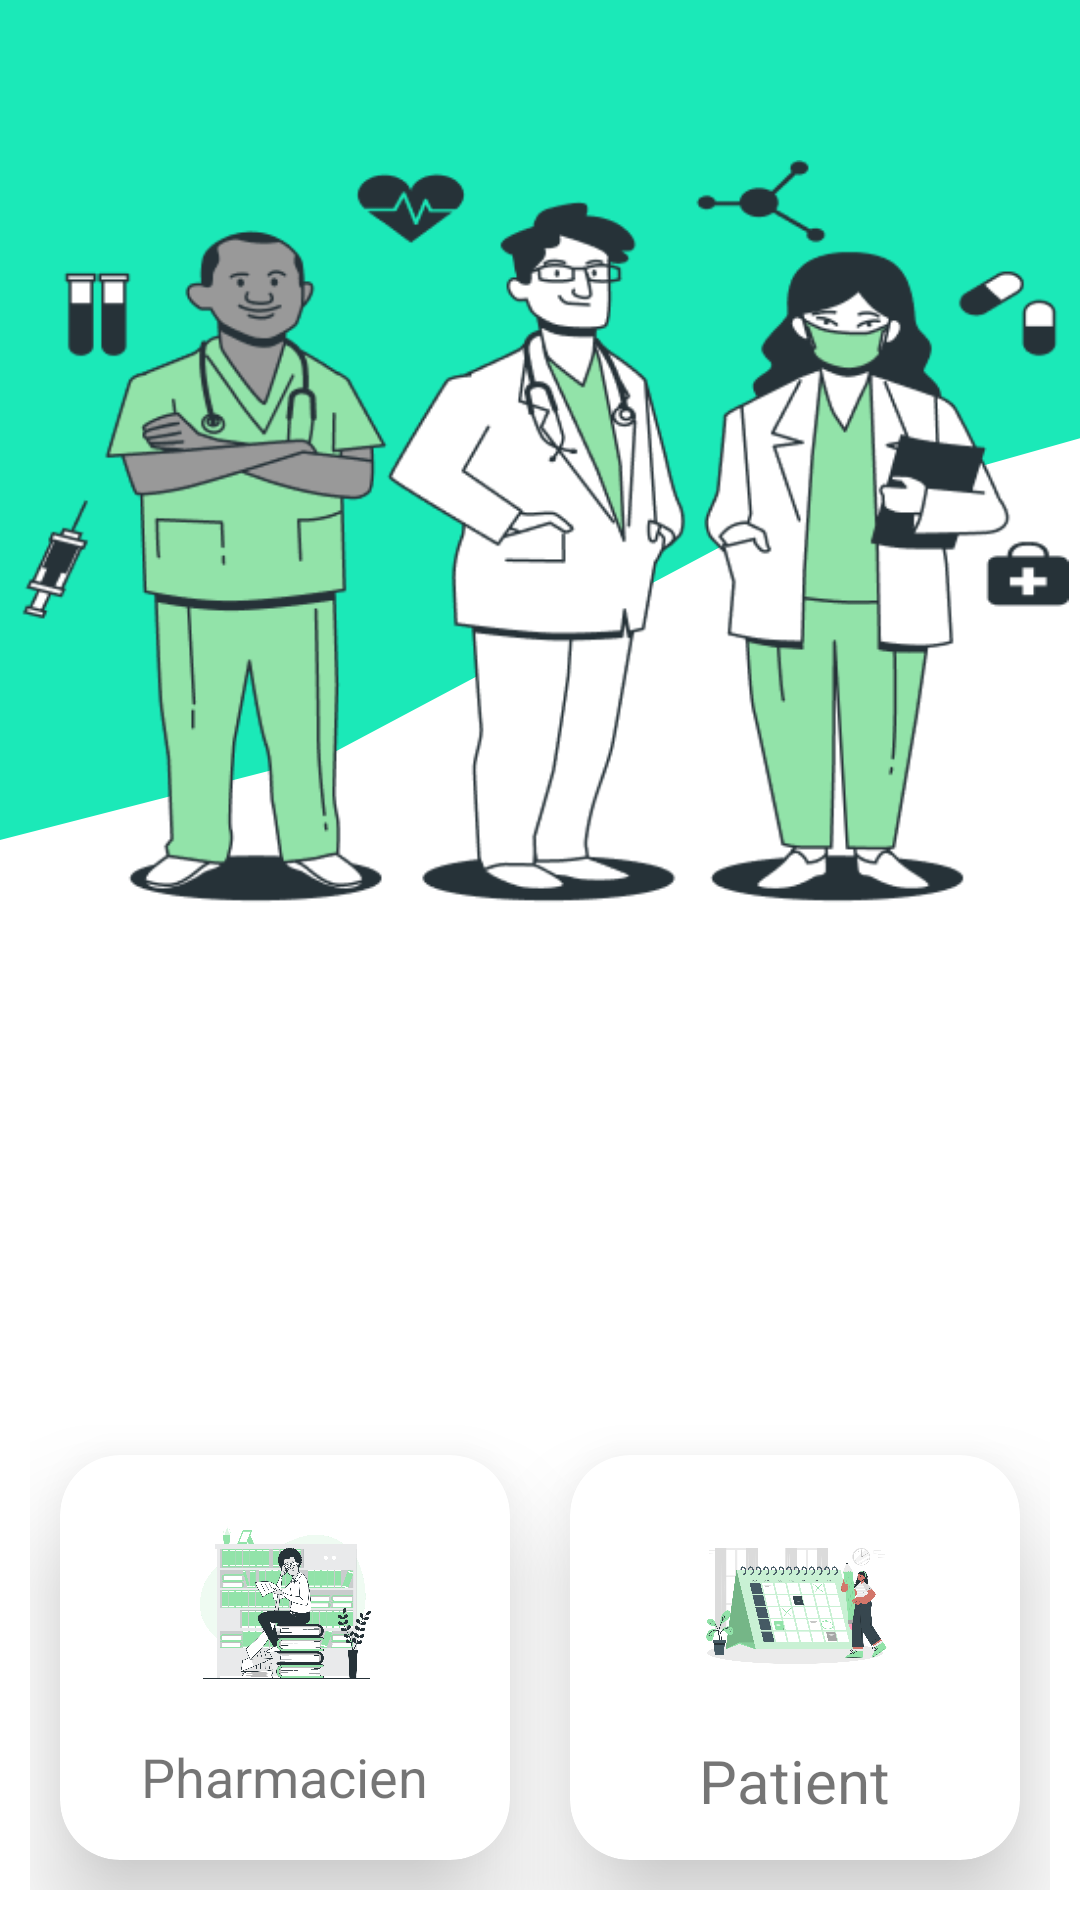

Point at icon controls on the screen. Image size 1080×1920, points as (x,y).
calendar: (796,1603)
reading list bro: (286,1603)
